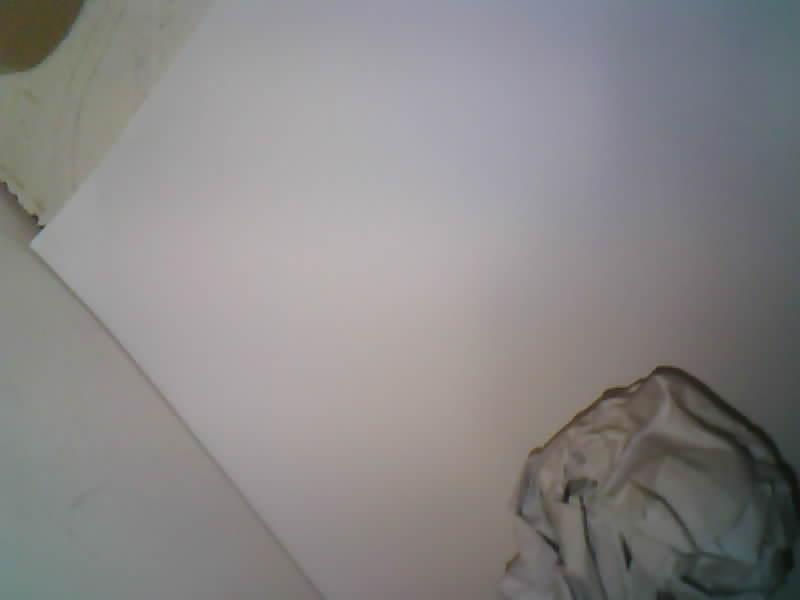biodegradable: (501, 368, 799, 599)
